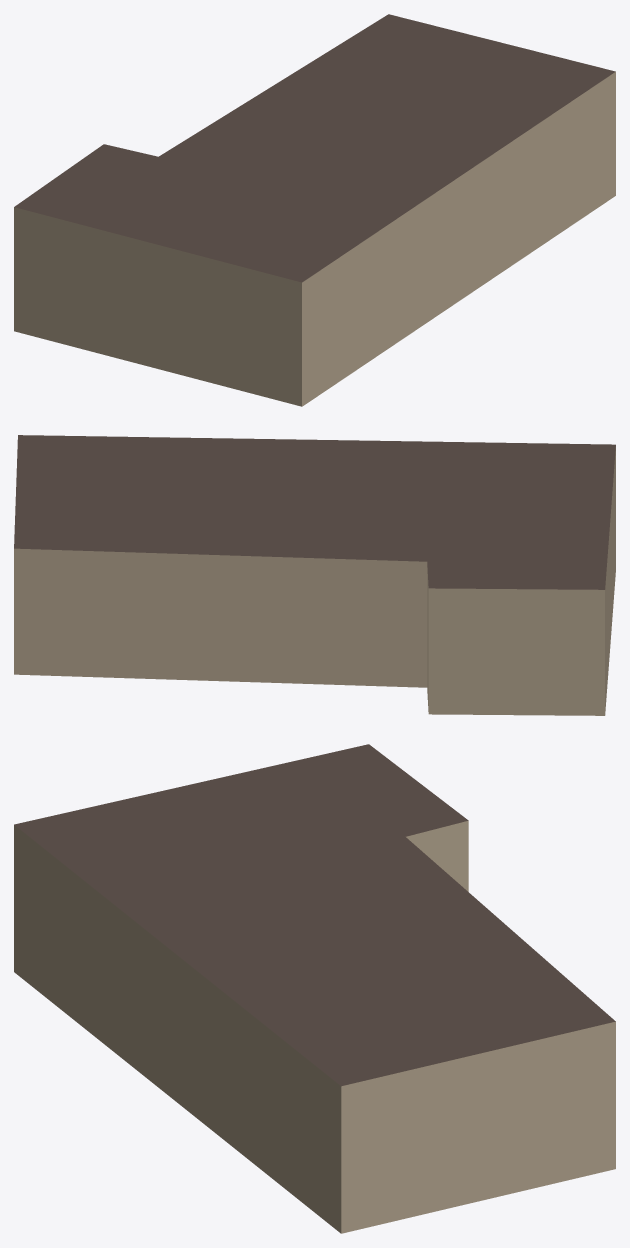
3 renders of one model, top to bottom at view 1: azimuth 30°, elevation 25°; view 2: azimuth 150°, elevation 25°; view 3: azimuth 270°, elevation 25°, orthographic. The views are drawn at different scales.
Parts seen in each view (by area): view 1: HP-w1512480744; view 2: HP-w1512480744; view 3: HP-w1512480744.
Boxes of the visible parts, box(x1,y1,x2,y2) form: HP-w1512480744: box(14, 14, 615, 406); HP-w1512480744: box(14, 435, 615, 715); HP-w1512480744: box(14, 744, 615, 1233).
Bounding box in the file's own units: 44.76 × 9 × 33.28.
